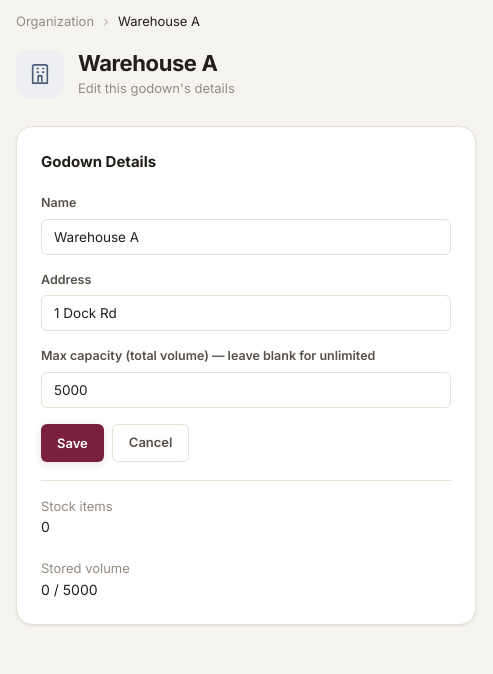
Test: GodownDetail page › prefills and saves name, address and a cleared max capacity
Expected: the number field labelled "Max capacity (total volume) — leave blank for unlimited" holds "5000", [41,372,451,408]
Replace the text in the field labelled "Name" with "Warehouse B": x=246, y=237 [41,219,451,255]
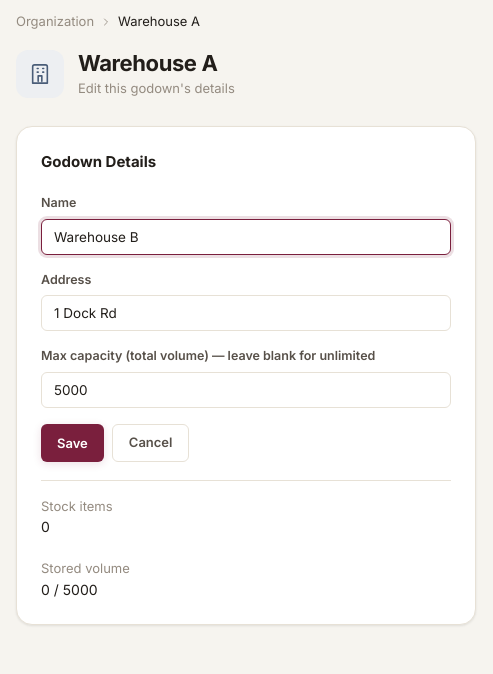
Clear the number field labelled "Max capacity (total volume) — leave blank for unlimited": x=246, y=390 [41,372,451,408]
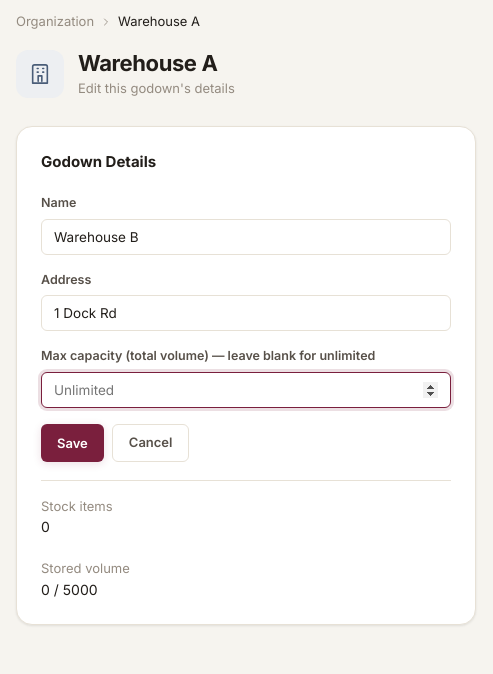
Click the button "Save": x=72, y=443 [41,424,104,462]
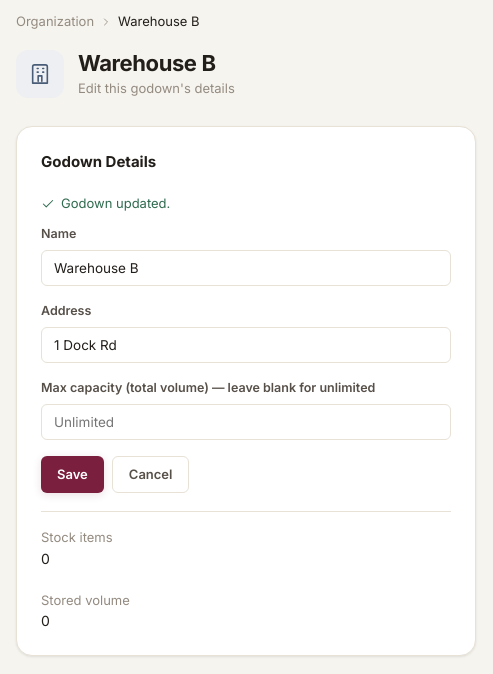
Expected: the text "Godown updated." is shown, [41,195,170,211]
